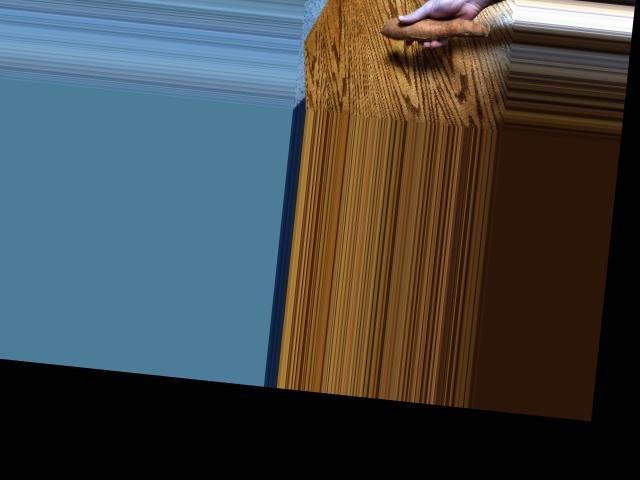sweet_potato: (374, 4, 493, 49)
